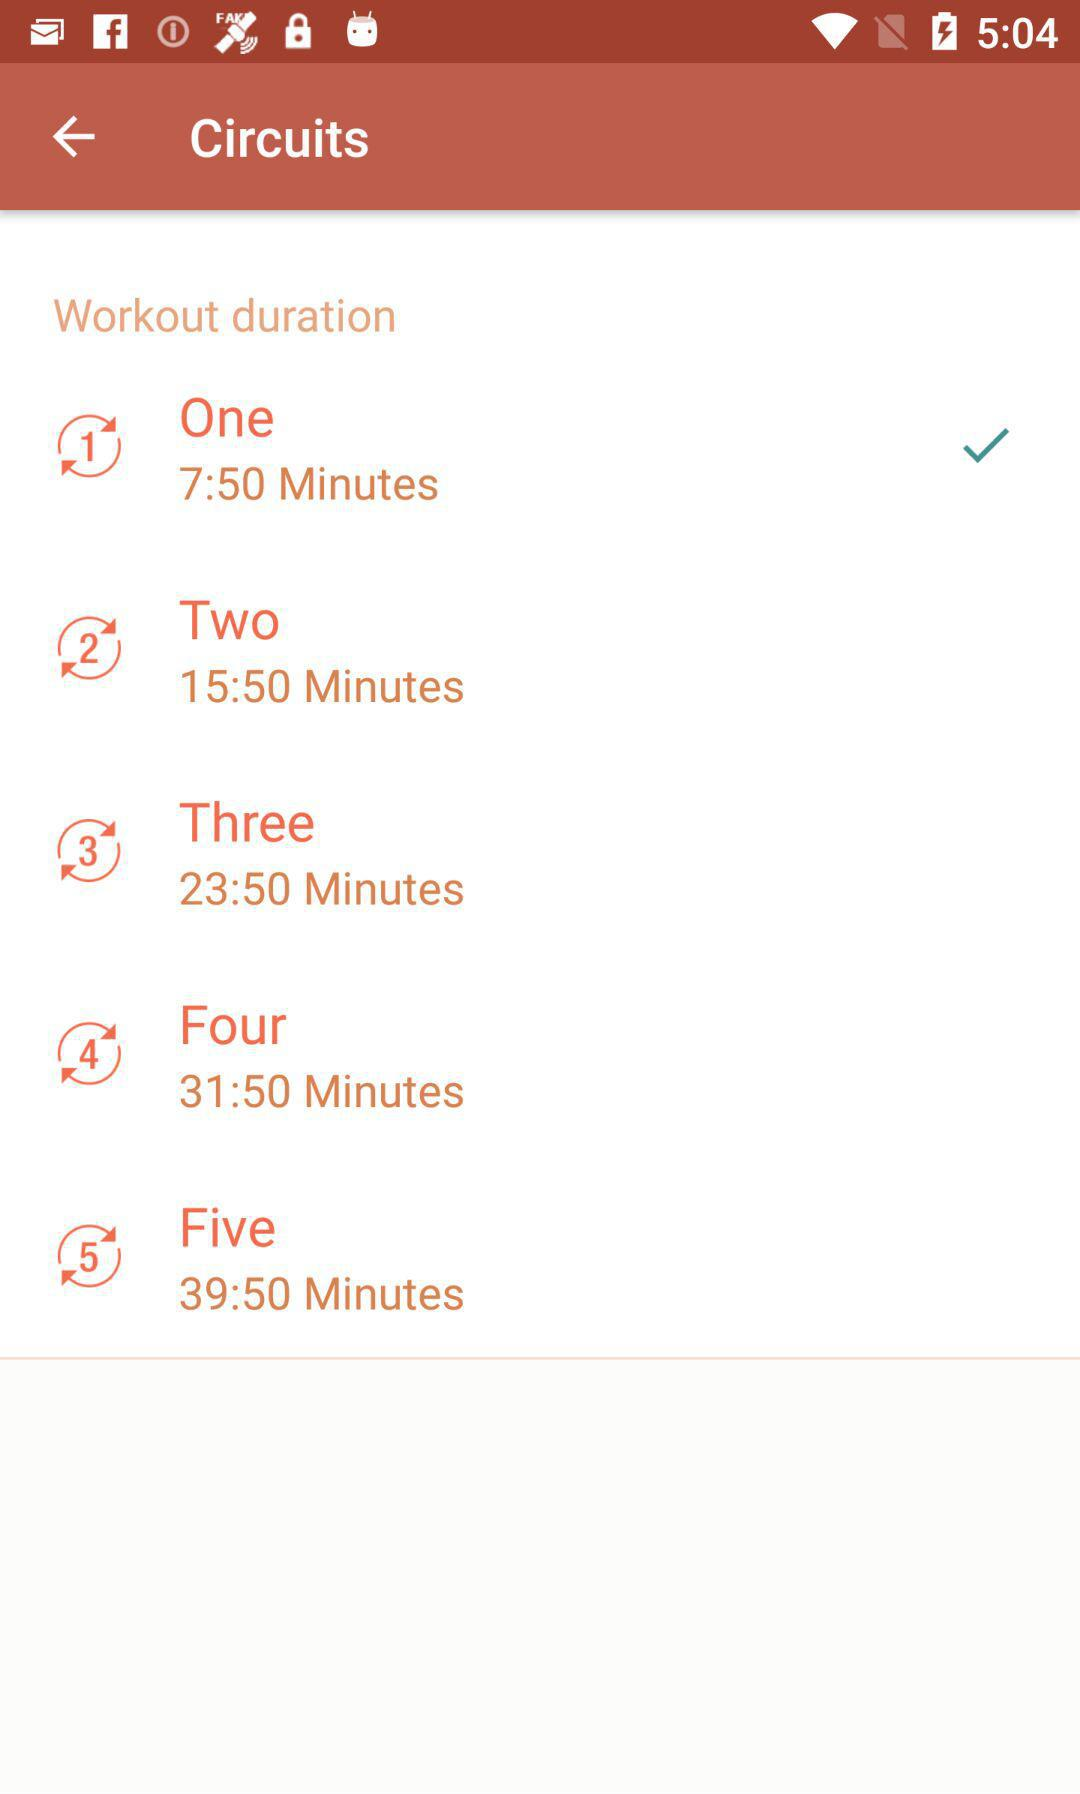Icon: (51, 117, 97, 160), (962, 428, 1010, 465)
Image: (56, 413, 123, 479), (58, 1224, 123, 1289), (58, 1021, 123, 1087), (56, 819, 122, 884), (58, 615, 123, 680)
Text: (53, 297, 396, 334), (179, 1275, 465, 1311), (179, 1073, 464, 1108), (179, 871, 464, 907), (182, 668, 465, 704), (179, 465, 439, 502), (192, 118, 370, 160), (179, 800, 316, 844), (183, 1005, 288, 1046), (179, 600, 281, 642), (182, 397, 275, 440), (183, 1208, 275, 1249)
Toolbar: (4, 67, 1080, 211)
UpperTaskBar: (1, 1, 1080, 64)
